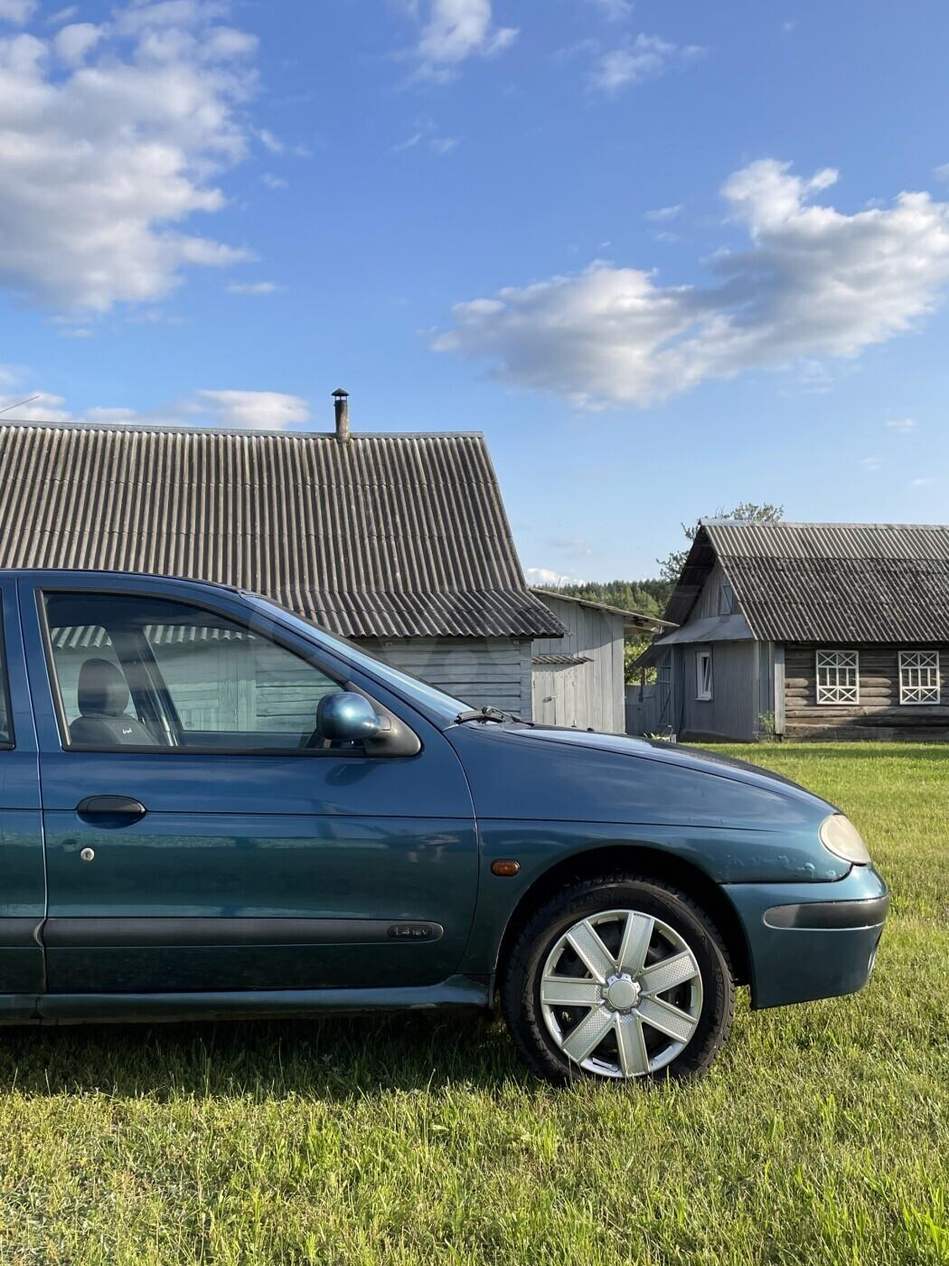Megane_1999-2003: (0, 553, 902, 1107)
